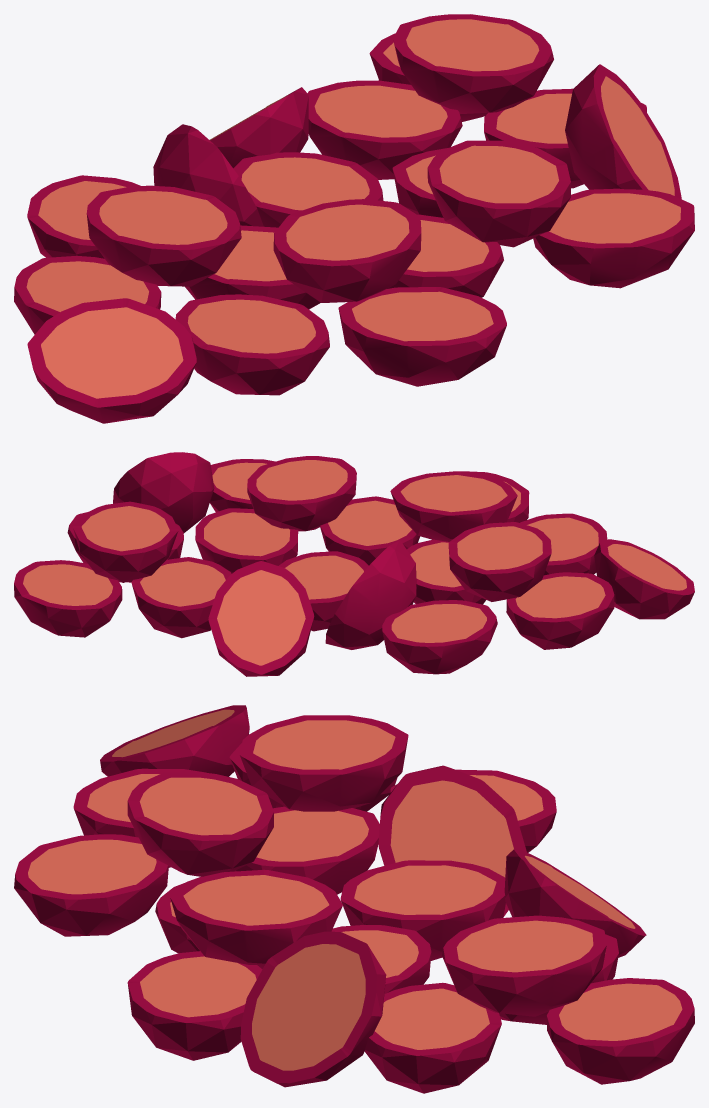
Rendered from UvaRojaCortada.fbx.
3 views of the same model, one above another, from view 1: azimuth 30°, elevation 25°; view 2: azimuth 150°, elevation 25°; view 3: azimuth 270°, elevation 25° (orthographic). The views are drawn at different scales.
Visible parts, largest first — view 1: UvaRojaCortada; view 2: UvaRojaCortada; view 3: UvaRojaCortada.
Boxes of the visible parts, <box> form: UvaRojaCortada: <box>14,14,694,423</box>; UvaRojaCortada: <box>14,452,694,676</box>; UvaRojaCortada: <box>14,705,694,1093</box>.
Bounding box in the file's own units: 15.17 × 2.97 × 12.33.
